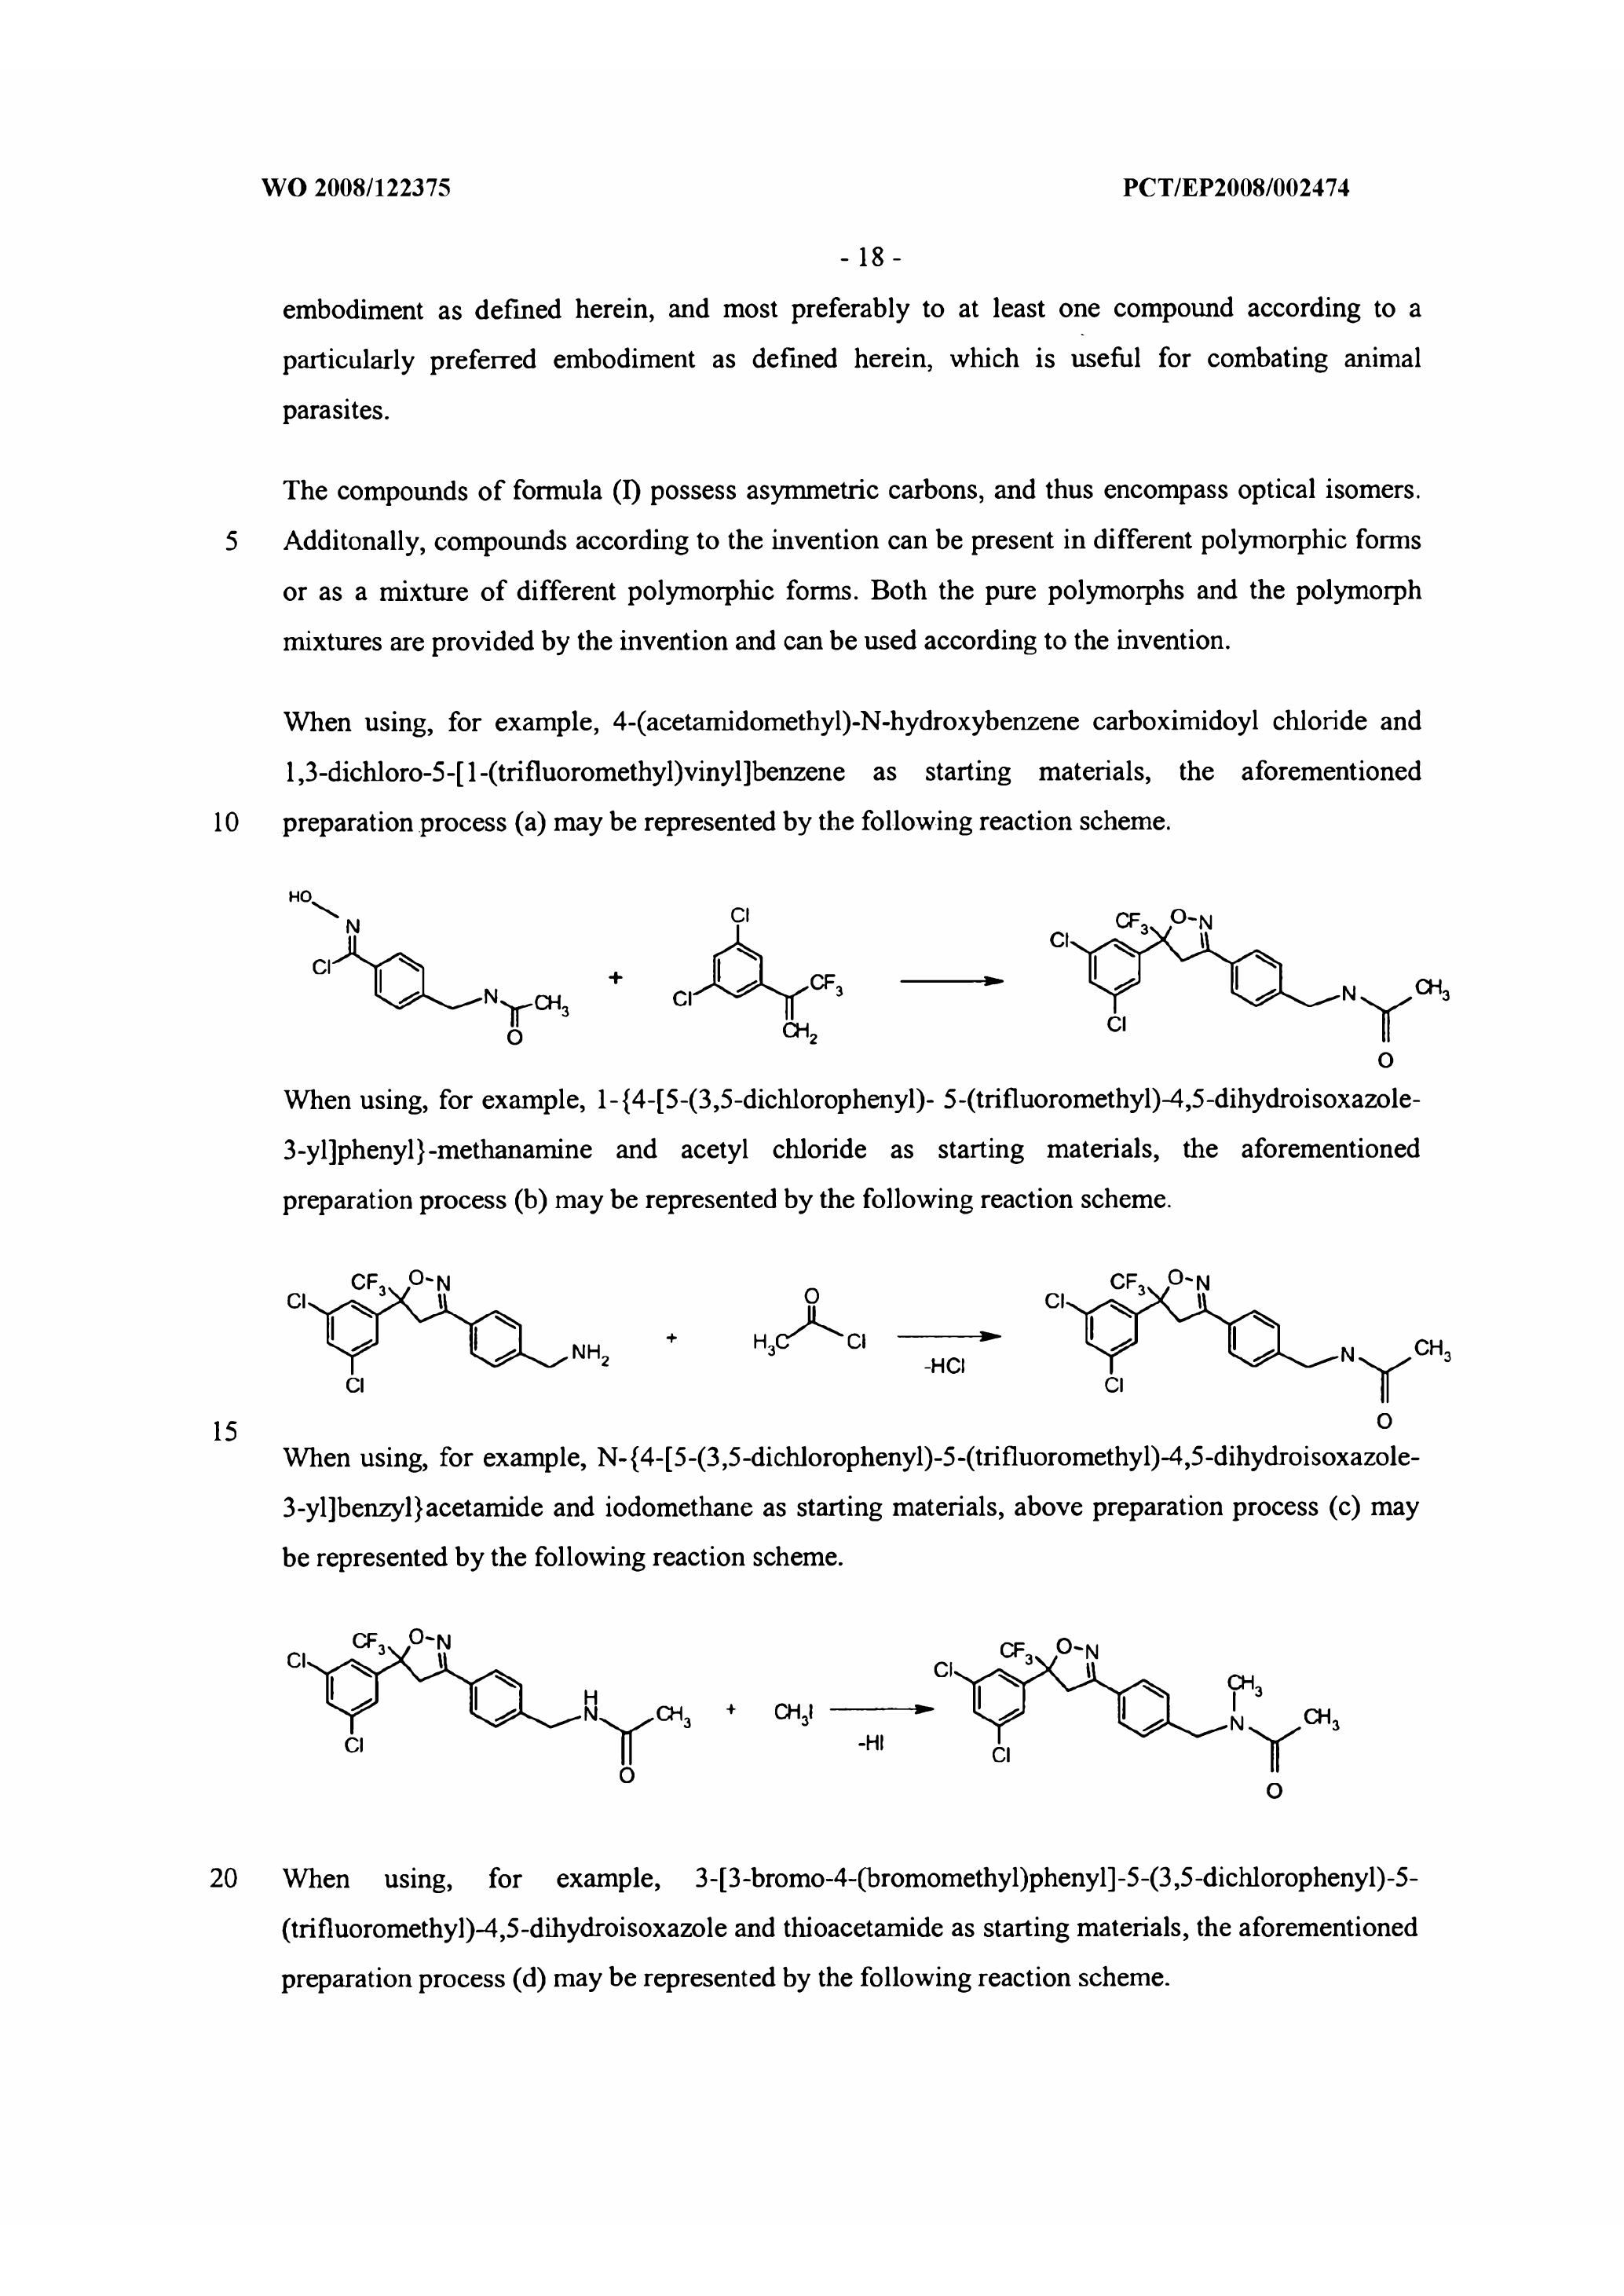reactions: (271, 1598, 1425, 1821)
